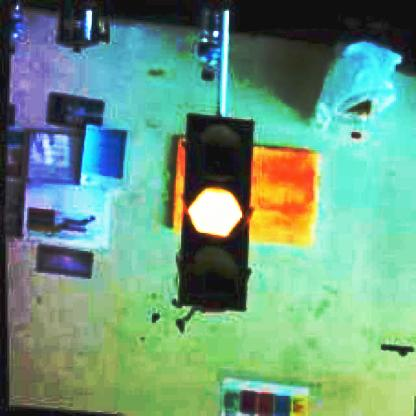Traffic Light -Yellow-: (175, 111, 257, 307)
